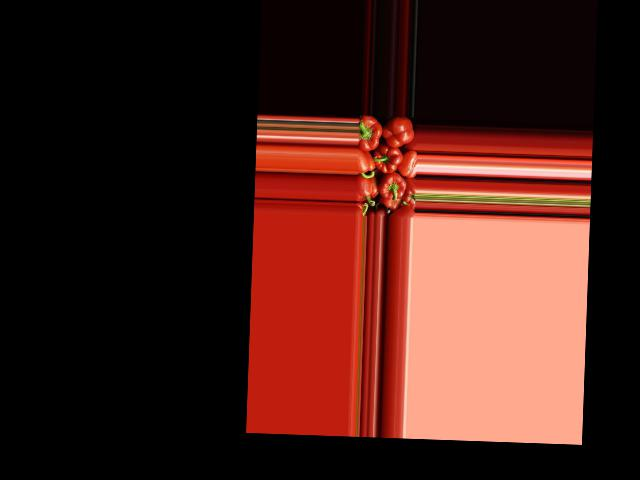bell_pepper: (399, 149, 416, 177)
